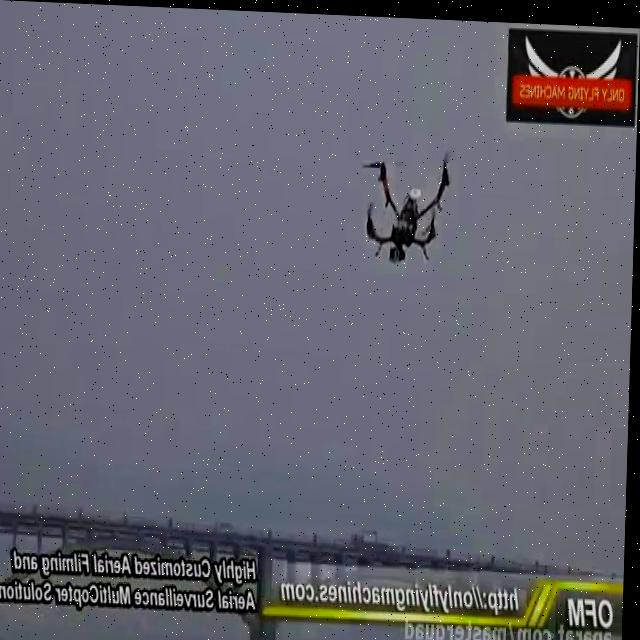drone: (360, 141, 460, 264)
